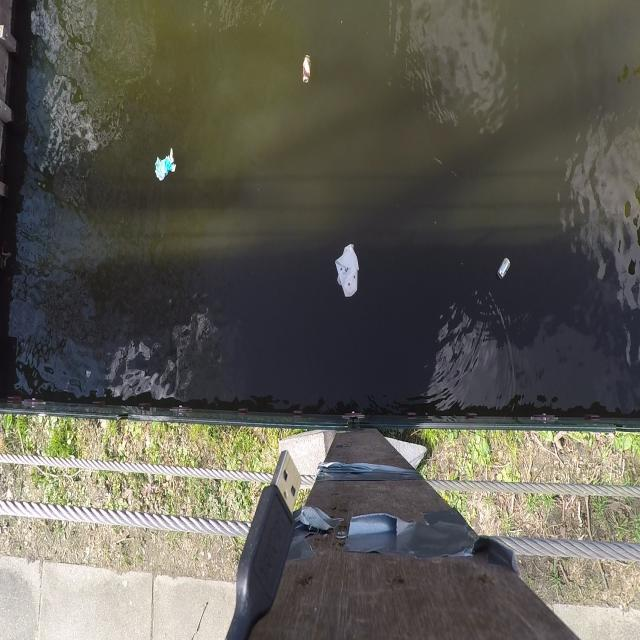Non plastique: (298, 49, 314, 89), (496, 255, 516, 285)
Sac plastique: (151, 144, 181, 185)
